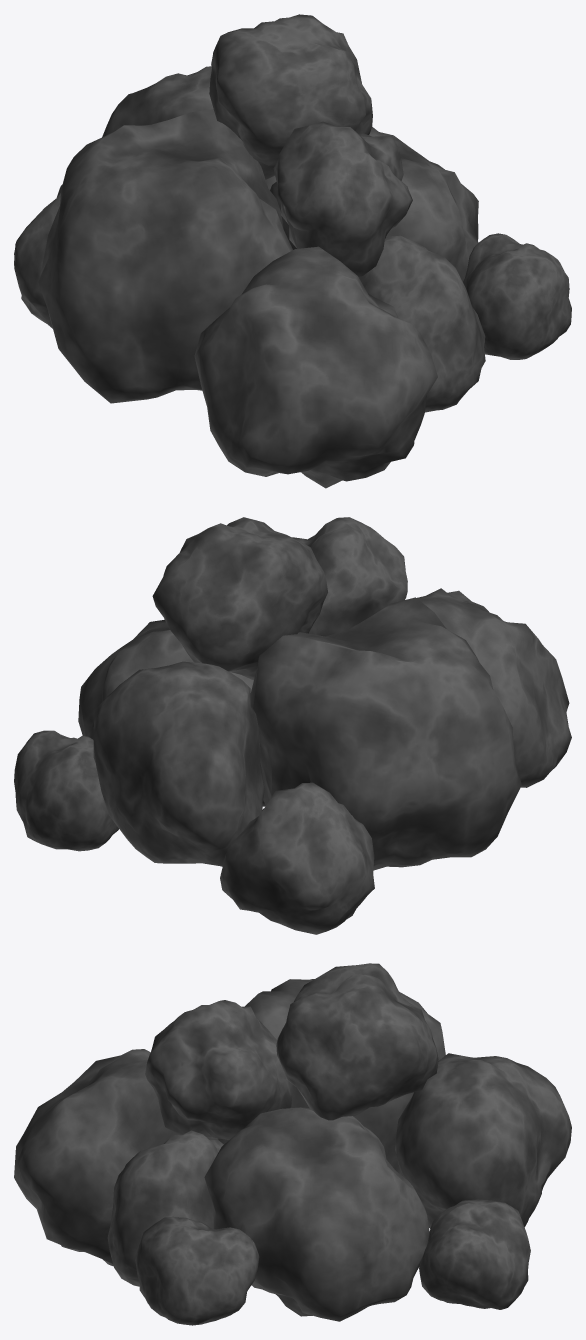
File: A_BoulderOutcropPlainLarge_9.glb
3 views of the same model, one above another, from view 1: azimuth 30°, elevation 25°; view 2: azimuth 150°, elevation 25°; view 3: azimuth 270°, elevation 25° (orthographic). The views are drawn at different scales.
Parts seen in each view (by area): view 1: BoulderOutcropPlainLarge_9; view 2: BoulderOutcropPlainLarge_9; view 3: BoulderOutcropPlainLarge_9.
Boxes of the visible parts, x1,y1,x2,y2 form: BoulderOutcropPlainLarge_9: (14, 14, 571, 488); BoulderOutcropPlainLarge_9: (14, 517, 571, 934); BoulderOutcropPlainLarge_9: (14, 963, 571, 1325).
Size of the model in its own units: 6.36 by 4.7 by 7.44.
Materials: 1 (1 with a texture image).
